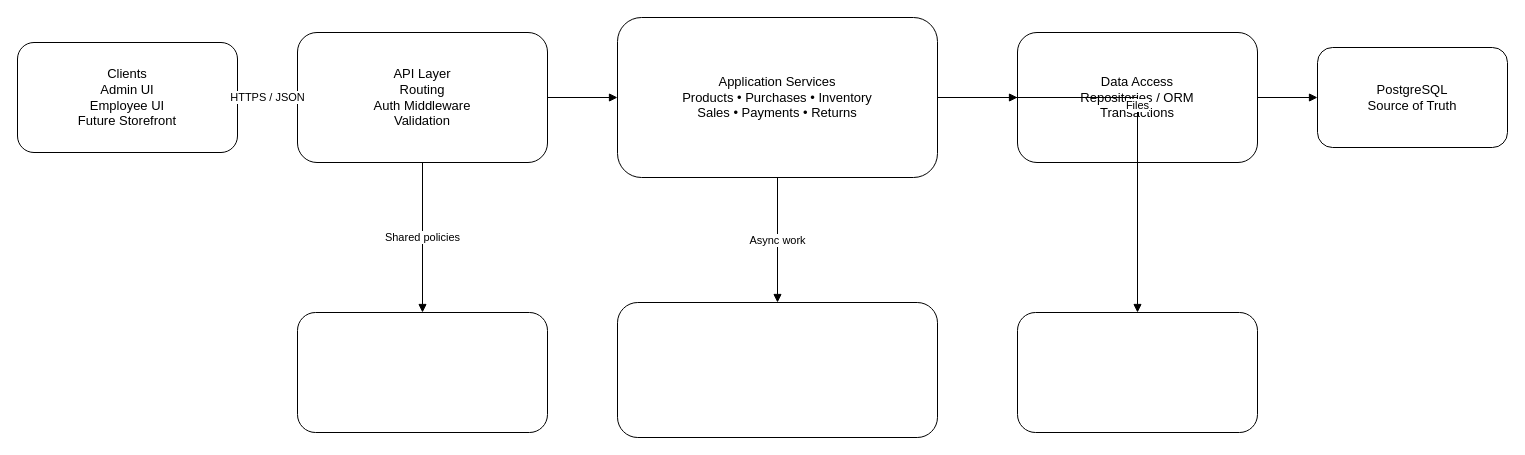
Image size: 1525x455. Some labels were removed from this diagram. The centre of each missing label's shape, as x and y in pixels:
Background Jobs Expiry • Aged Stock Notifications • Reports: (x=777, y=370)
Cross-Cutting Error Mapping • Logging Audit Context • Security: (x=422, y=372)
File Service Images • Receipts • Exports: (x=1137, y=372)
